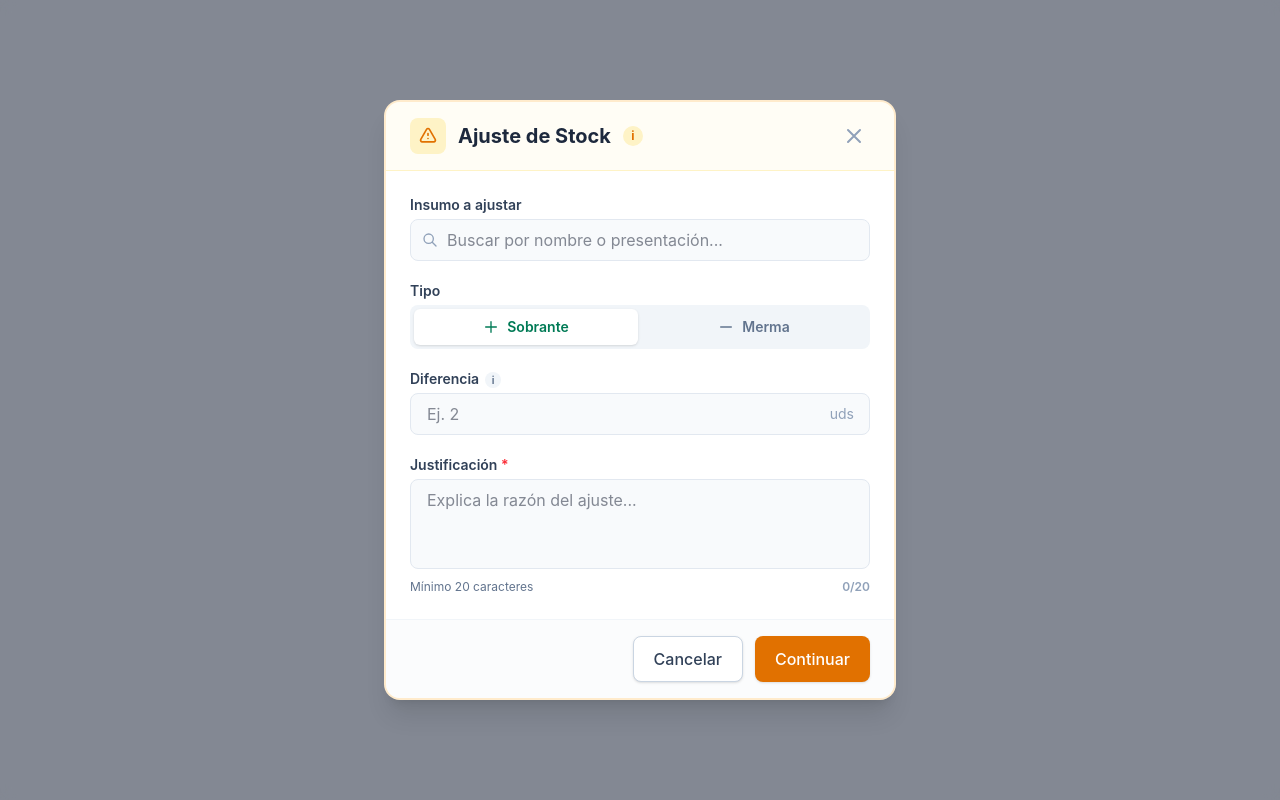
Scenario: AjusteModal (sobrantes y mermas) › suma la diferencia sobre el stock cuando el ajuste es un sobrante
This screenshot has width=1280, height=800.
Type "jeringa" into the dropdown at (640, 240), box [410,219,870,261]
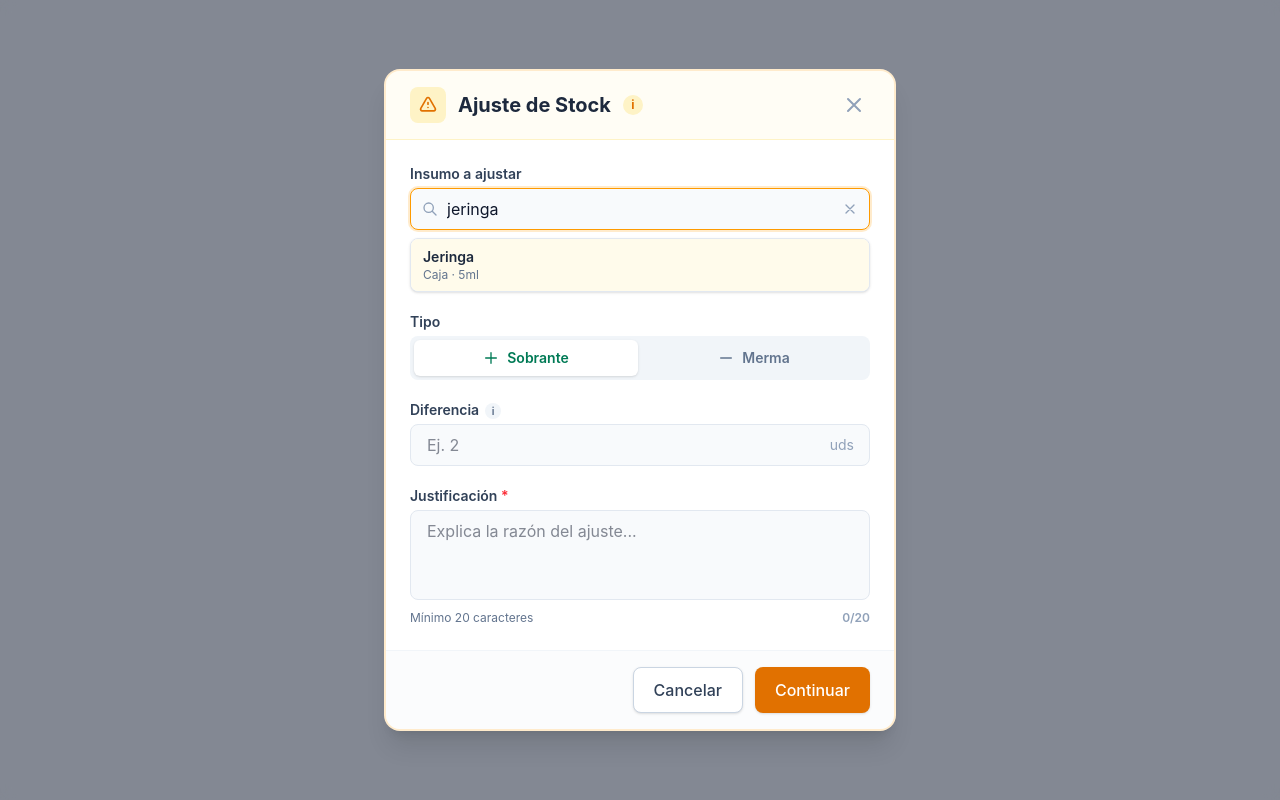
Click the option "Jeringa Caja · 5ml" at (449, 256), box [411,239,869,291]
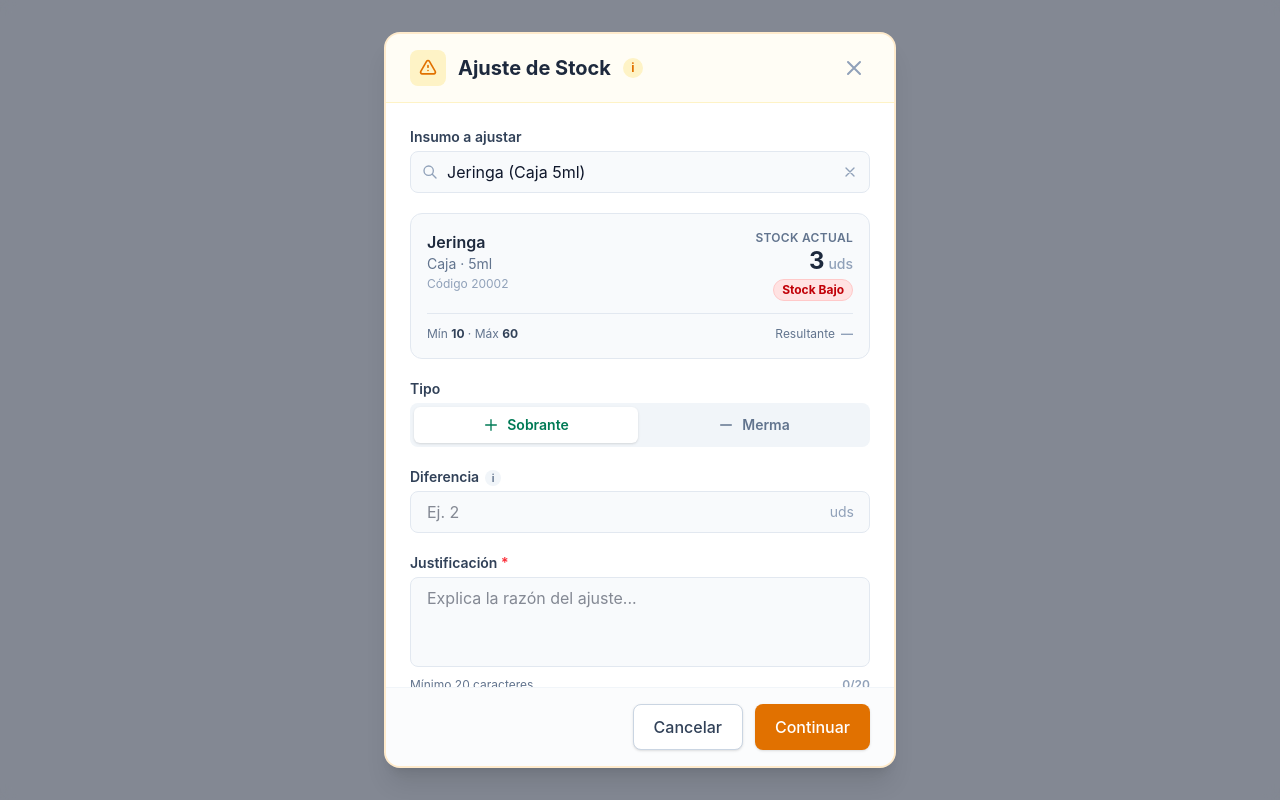
Type "5" into the number field at (640, 512), box [410,491,870,533]
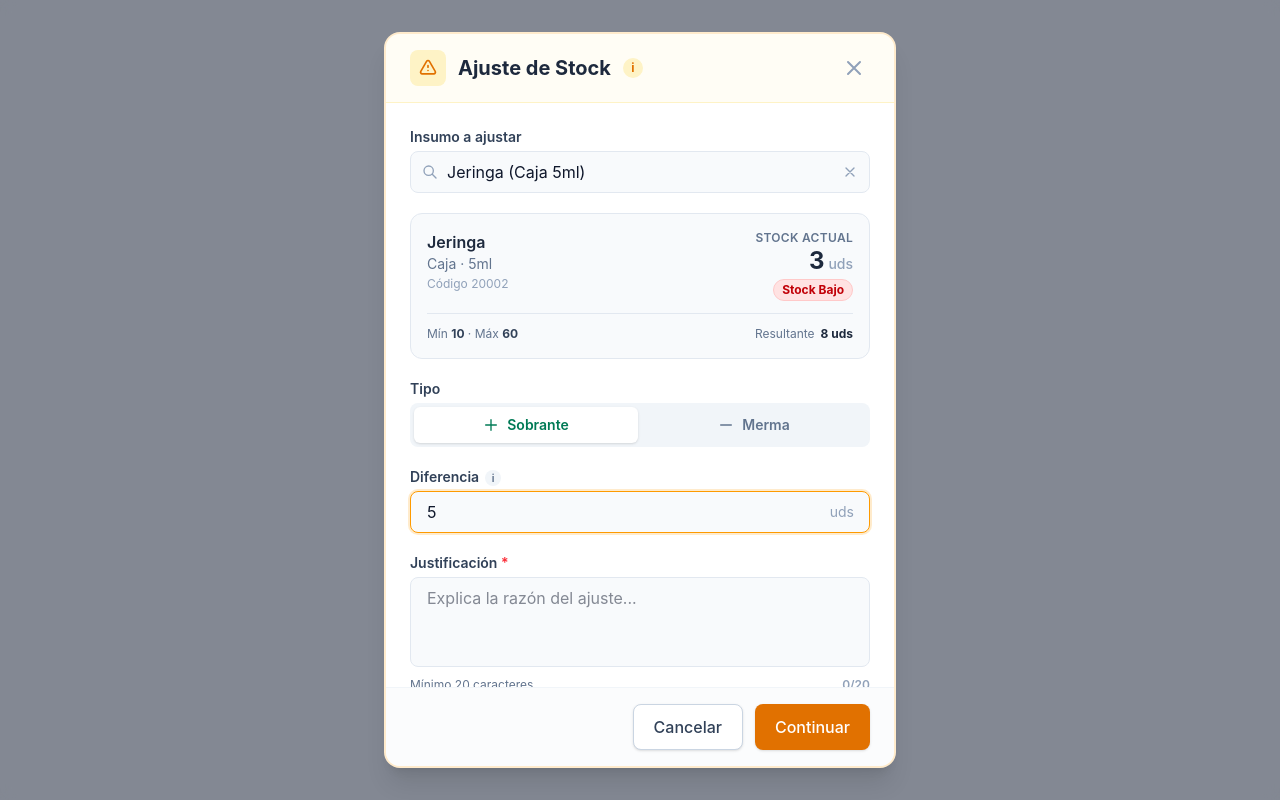
Now the text "8 uds" is shown, box [821,326,853,342]
